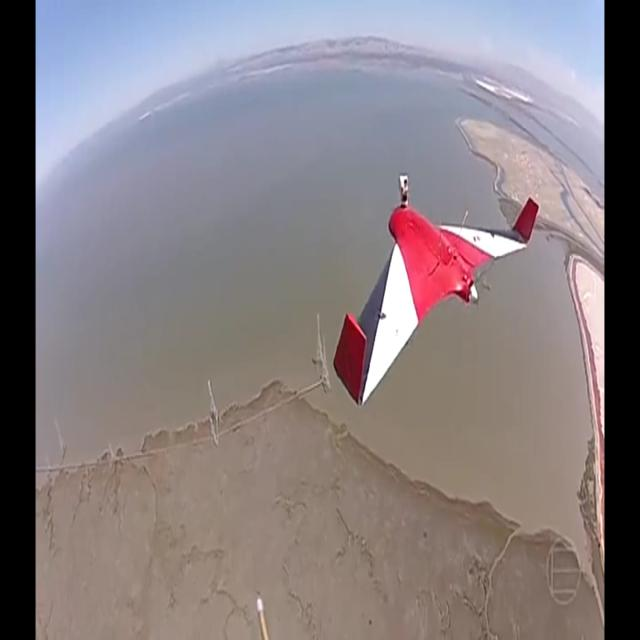iha: (332, 172, 539, 409)
